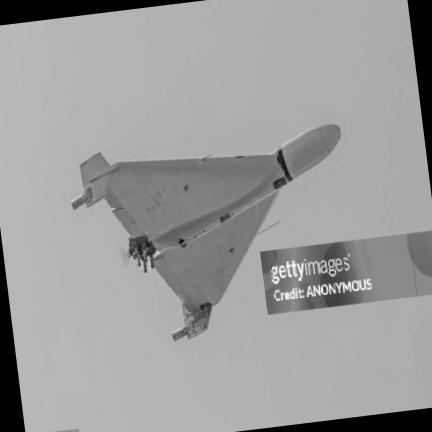Shahed: (72, 124, 341, 340)
